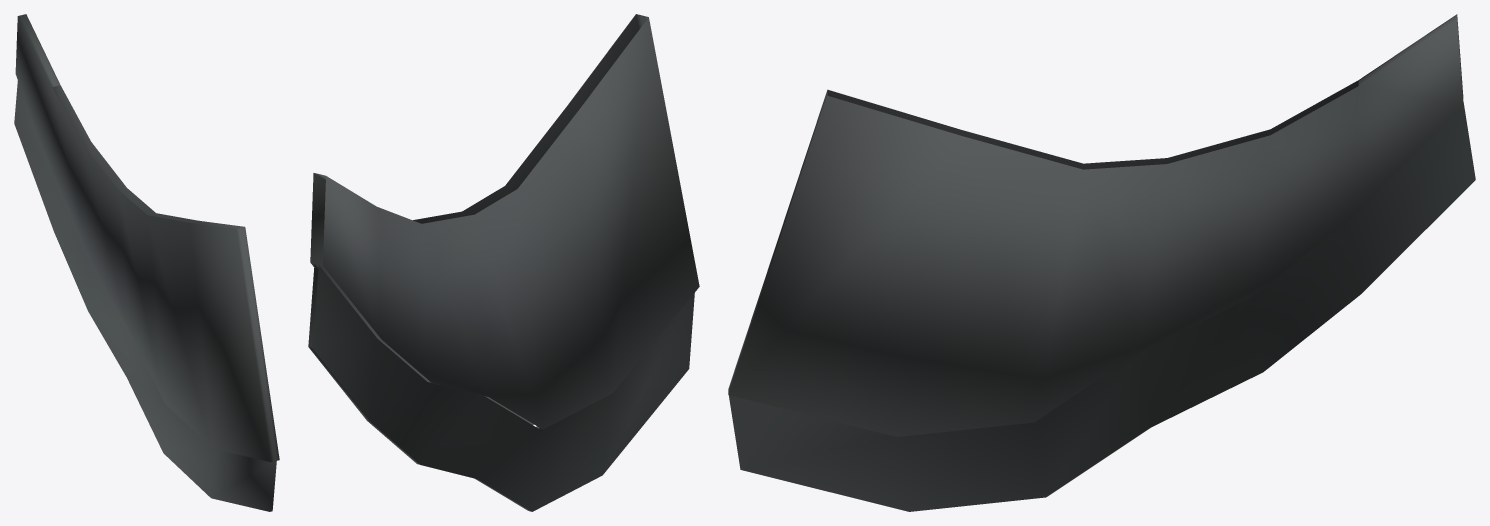
Rendered from Shotgun_PSX_Trigger.fbx.
3 renders of one model, left to right at view 1: azimuth 30°, elevation 25°; view 2: azimuth 150°, elevation 25°; view 3: azimuth 270°, elevation 25°, orthographic. The views are drawn at different scales.
Parts seen in each view (by area): view 1: Trigger; view 2: Trigger; view 3: Trigger.
Part boxes in pixels (x1,y1,x2,y2): Trigger: (14,14,279,511); Trigger: (308,14,699,511); Trigger: (728,14,1475,511).
Bounding box in the file's own units: 0.5571 × 21.05 × 28.85.
